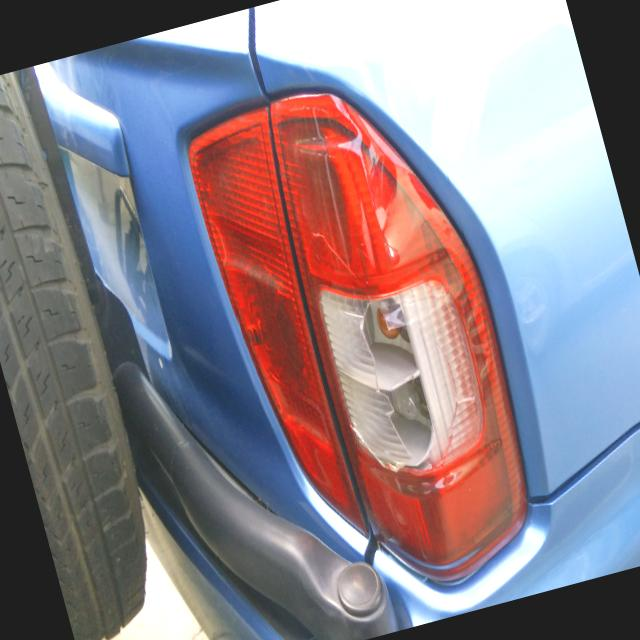Phare abime: (297, 191, 489, 504)
